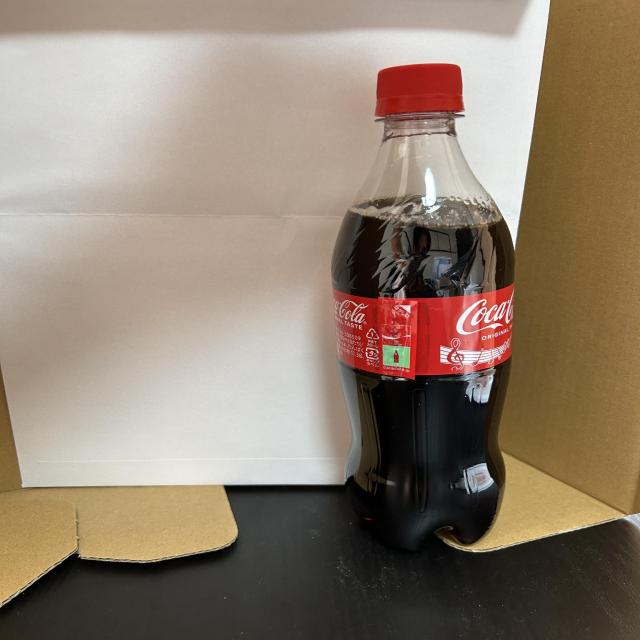high: (331, 64, 515, 549)
